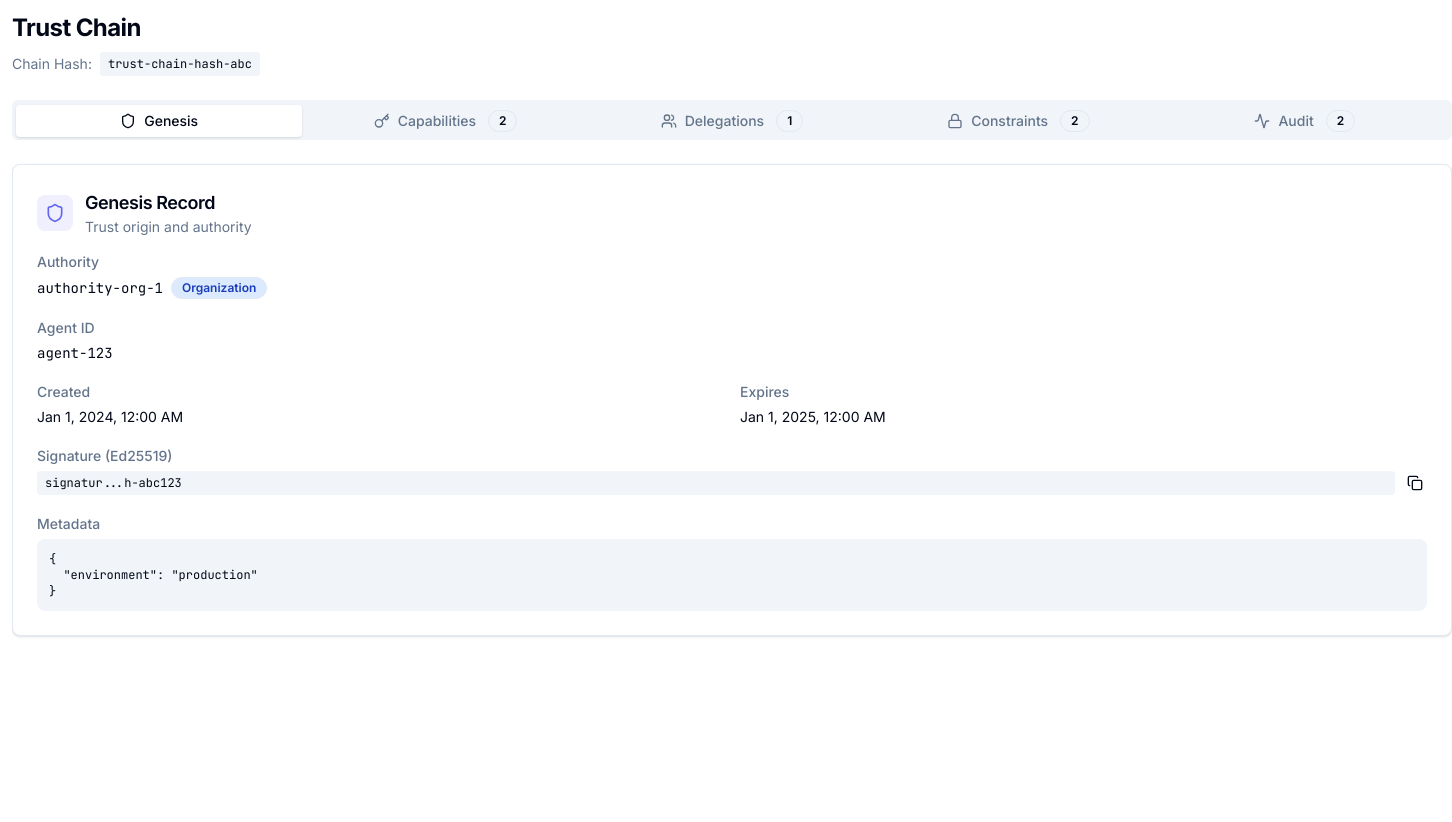
TrustChainViewer › Tab switching › should switch to Constraints tab when clicked
Click the tab "Constraints 2" at point(1018, 121), box [875, 104, 1162, 138]
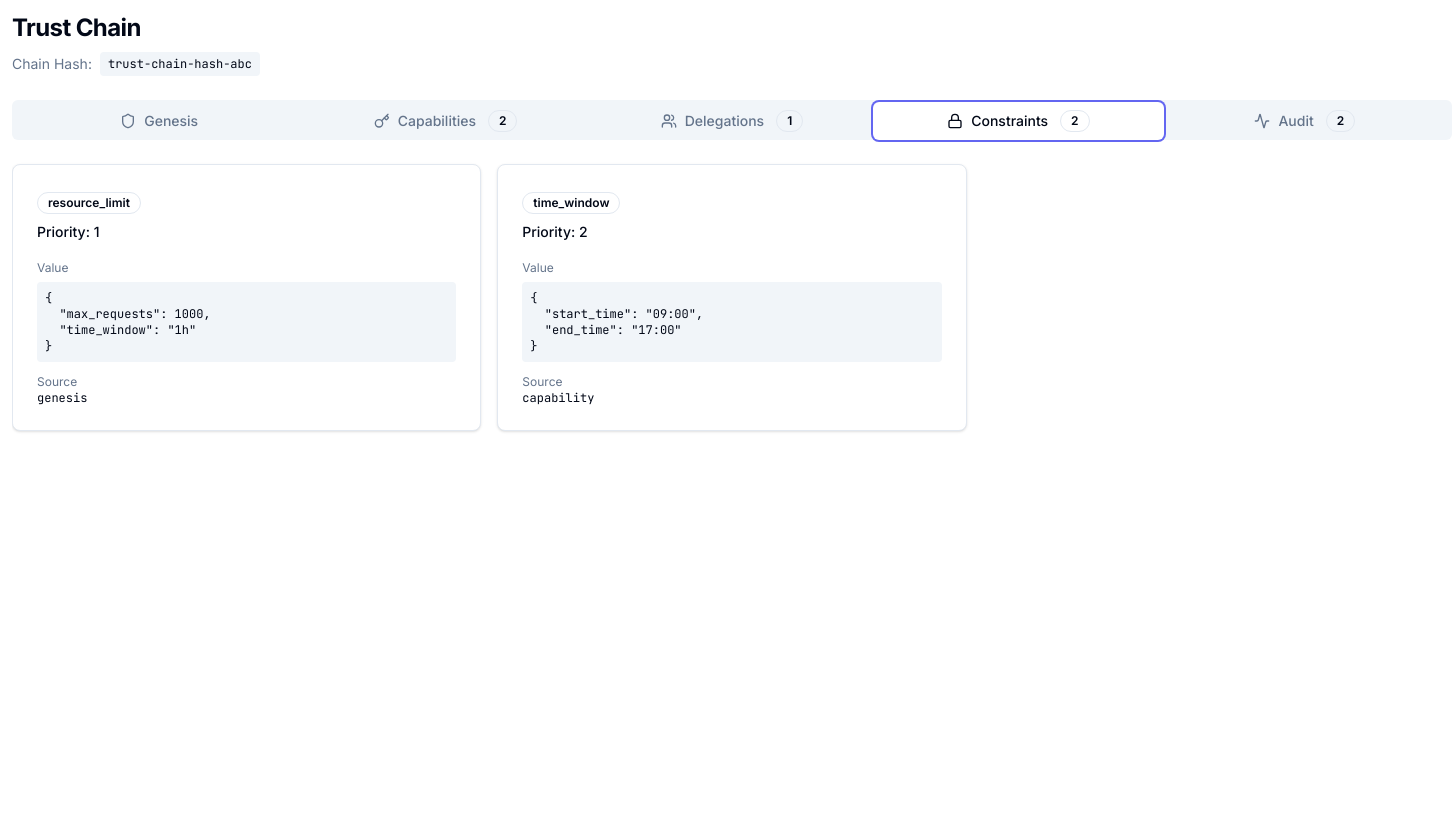
Expected: the text "resource_limit" is shown, [37, 192, 141, 214]
Expected: the text "time_window" is shown, [522, 192, 620, 214]
